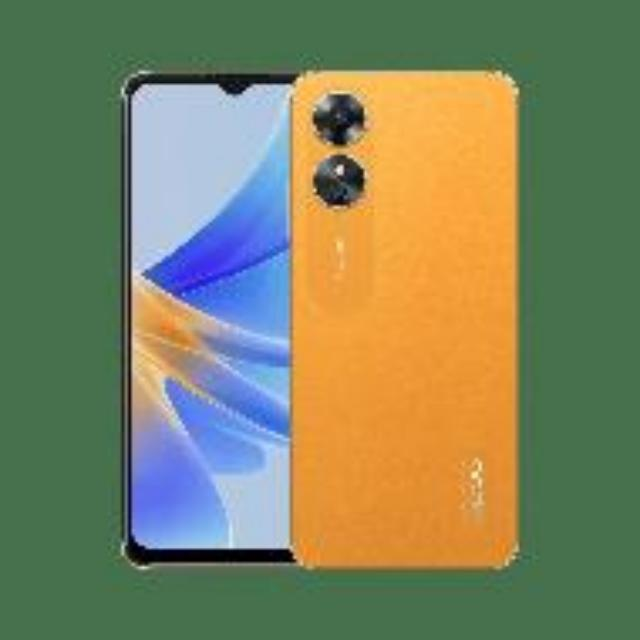phone: (121, 71, 297, 565)
